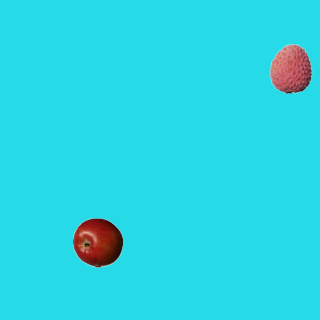Apple Braeburn: (72, 217, 122, 267)
Lychee: (265, 43, 315, 93)
